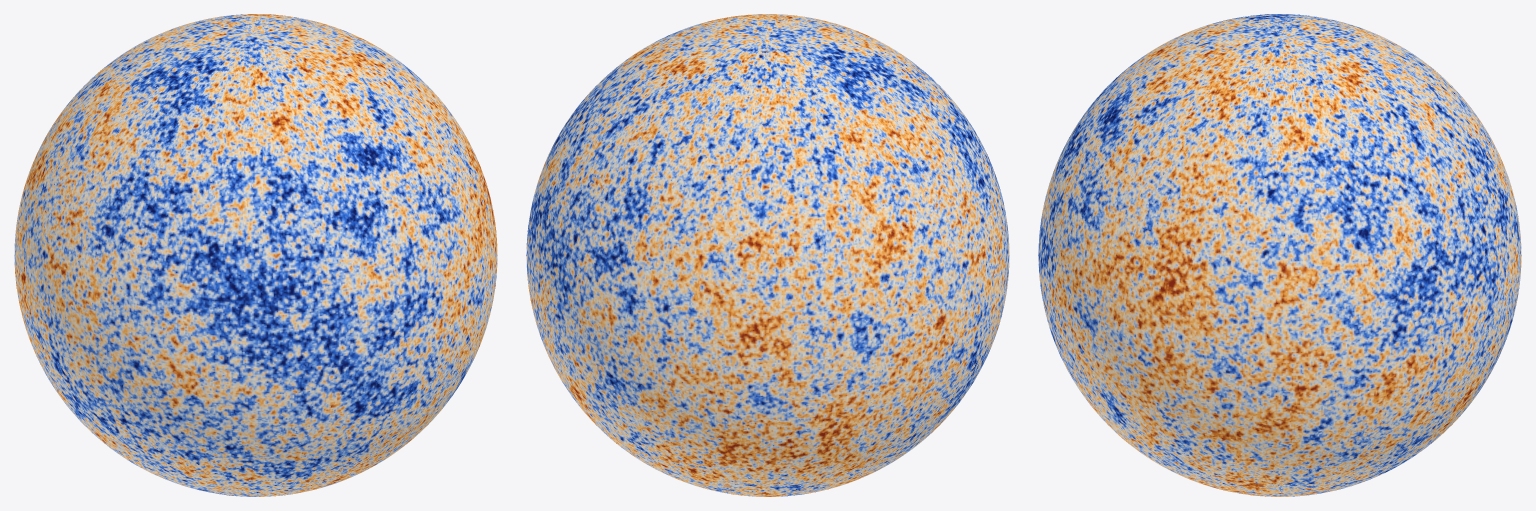
The model's file is luz-fossil.glb.
The picture shows the model from 3 angles, left to right: view 1: azimuth 30°, elevation 25°; view 2: azimuth 150°, elevation 25°; view 3: azimuth 270°, elevation 25°; orthographic projection.
Parts seen in each view (by area): view 1: cmb; view 2: cmb; view 3: cmb.
Part boxes in pixels (left/top/right/bottom): cmb: left=14, top=14, right=497, bottom=496; cmb: left=526, top=14, right=1009, bottom=496; cmb: left=1038, top=14, right=1521, bottom=496.
Size of the model in its own units: 20 by 20 by 20.
1 material, 1 textured.
